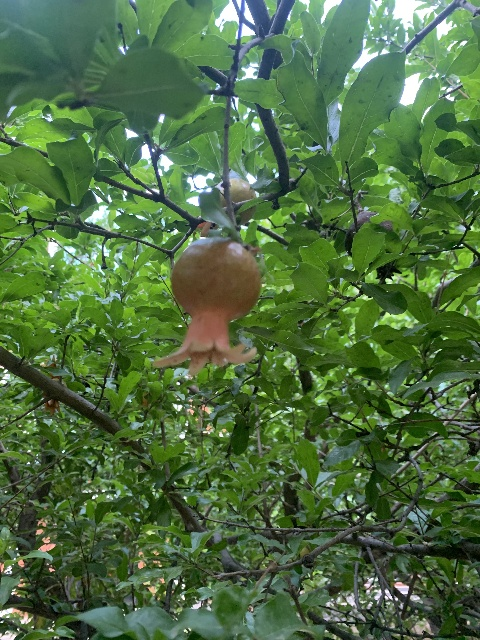early-fruit: (152, 237, 261, 376)
mid-growth: (197, 178, 256, 237)
